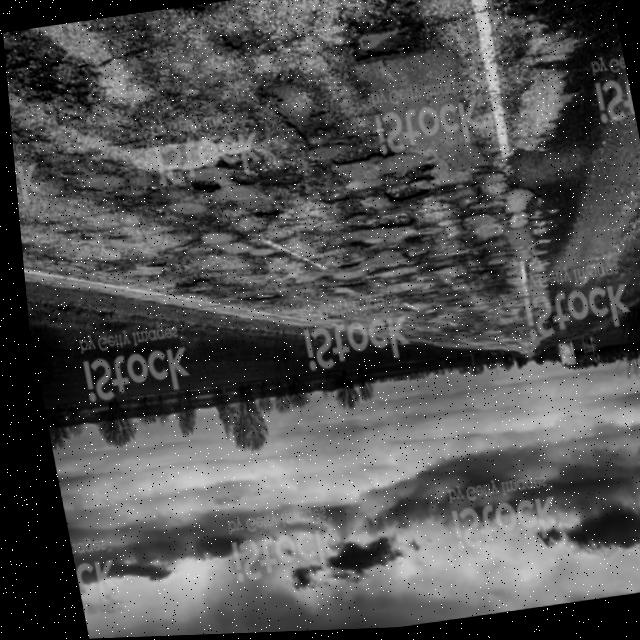Pothole: (263, 67, 325, 149), (2, 26, 57, 92), (378, 157, 438, 210), (329, 130, 398, 174), (351, 18, 408, 68), (351, 206, 418, 246), (208, 134, 258, 182), (178, 174, 223, 211), (215, 32, 247, 66), (247, 199, 279, 227), (317, 190, 346, 216), (170, 4, 208, 21), (451, 196, 476, 216)
